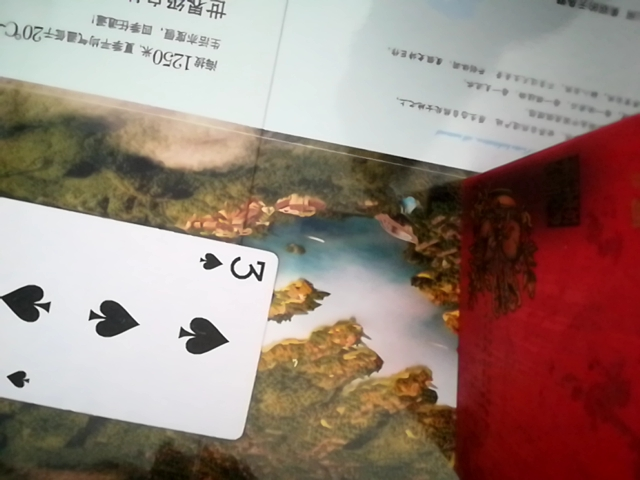ht 3: (0, 192, 289, 446)
